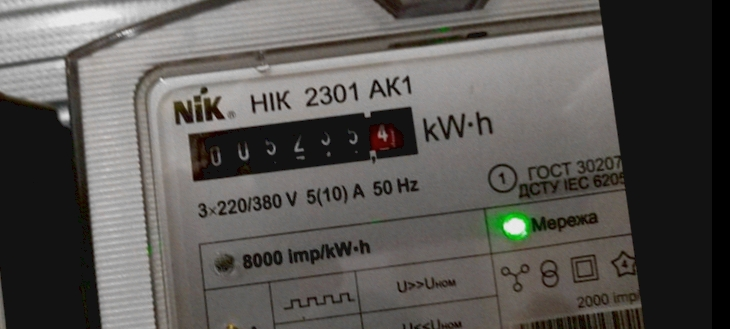0: (205, 139, 225, 167), (234, 134, 251, 160)
2: (288, 125, 305, 152)
3: (316, 119, 333, 146)
4: (373, 115, 391, 143)
5: (342, 116, 361, 145), (260, 129, 279, 156)
screen: (176, 90, 431, 193)
